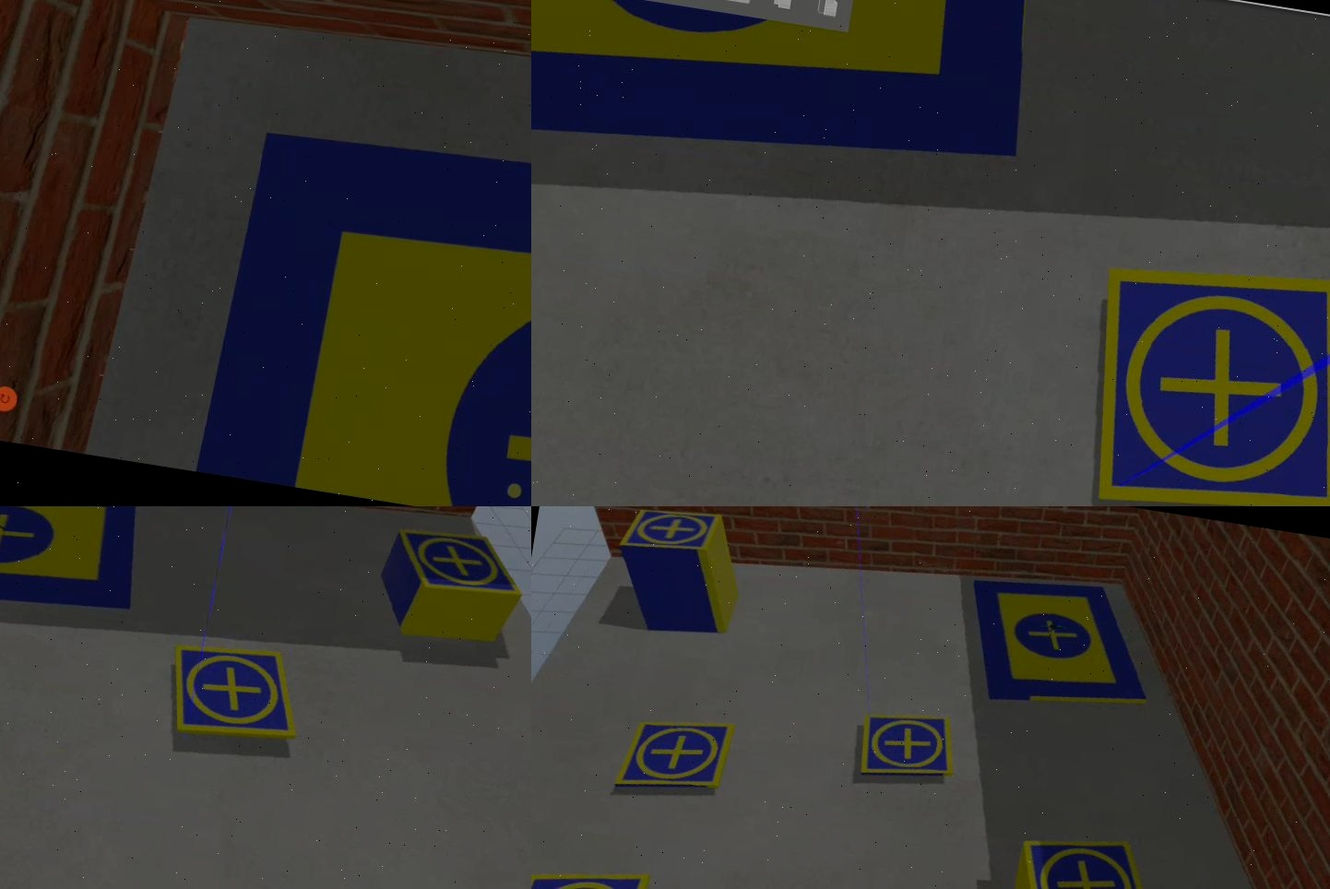large_base: (195, 97, 532, 506), (532, 1, 1050, 218), (959, 568, 1165, 725), (1, 506, 151, 634)
small_base: (1075, 245, 1330, 506), (169, 645, 310, 757), (391, 525, 532, 610), (614, 708, 734, 806), (1009, 826, 1170, 889), (850, 709, 959, 793), (620, 506, 724, 563)
